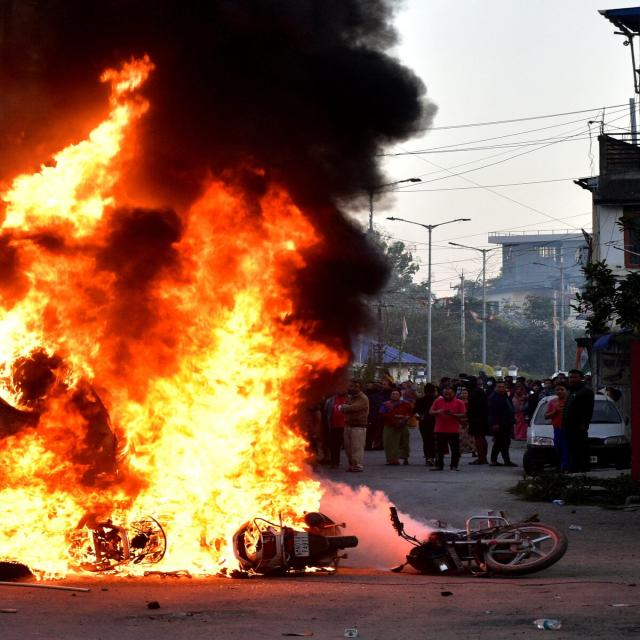fire: (121, 287, 323, 578), (0, 109, 129, 235), (0, 290, 94, 411), (0, 482, 93, 578), (103, 54, 157, 109)
